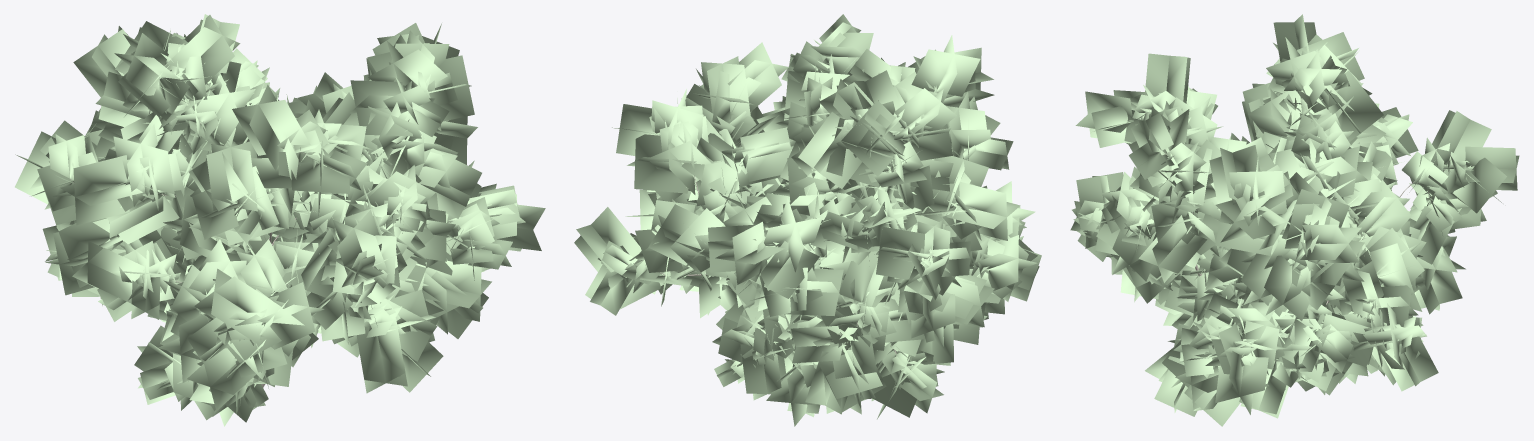
The model's file is bush_1_v0_lod0.glb.
The picture shows the model from 3 angles, left to right: view 1: azimuth 30°, elevation 25°; view 2: azimuth 150°, elevation 25°; view 3: azimuth 270°, elevation 25°; orthographic projection. The views are drawn at different scales.
Parts seen in each view (by area): view 1: Leaves; view 2: Leaves; view 3: Leaves.
Boxes of the visible parts, <box> form: Leaves: <box>15,14,545,426</box>; Leaves: <box>574,14,1041,426</box>; Leaves: <box>1070,14,1519,426</box>.
Size of the model in its own units: 33.85 by 27.19 by 32.74.
